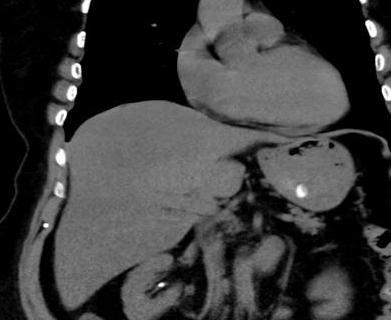Tas_Var: (152, 280, 170, 289)
